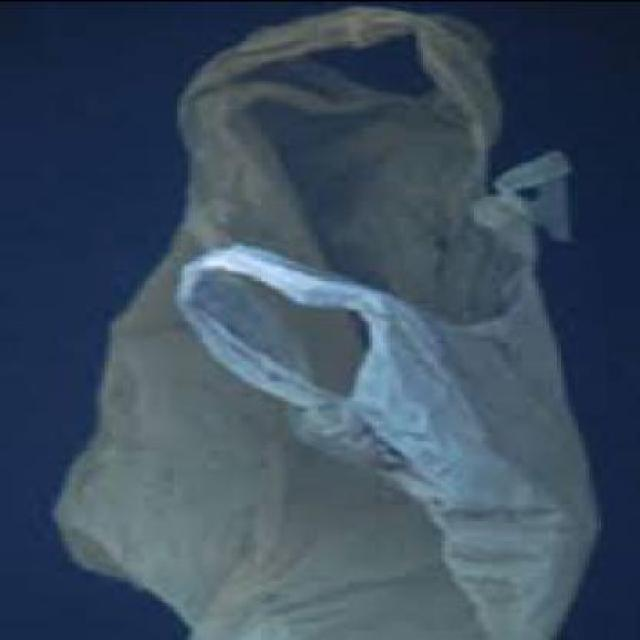PLASTIC: (43, 0, 600, 638)
